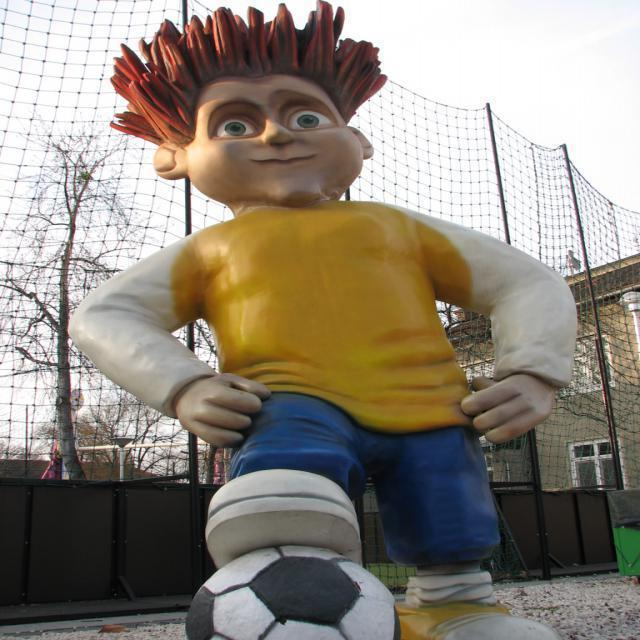ball: (183, 544, 404, 640)
